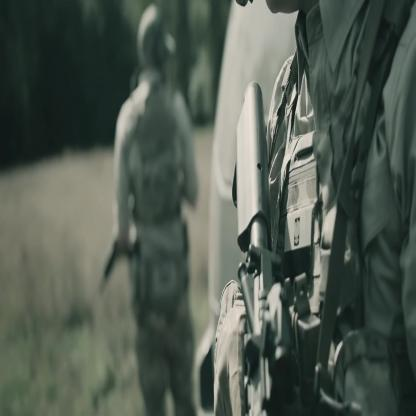Gun: (213, 72, 299, 412)
